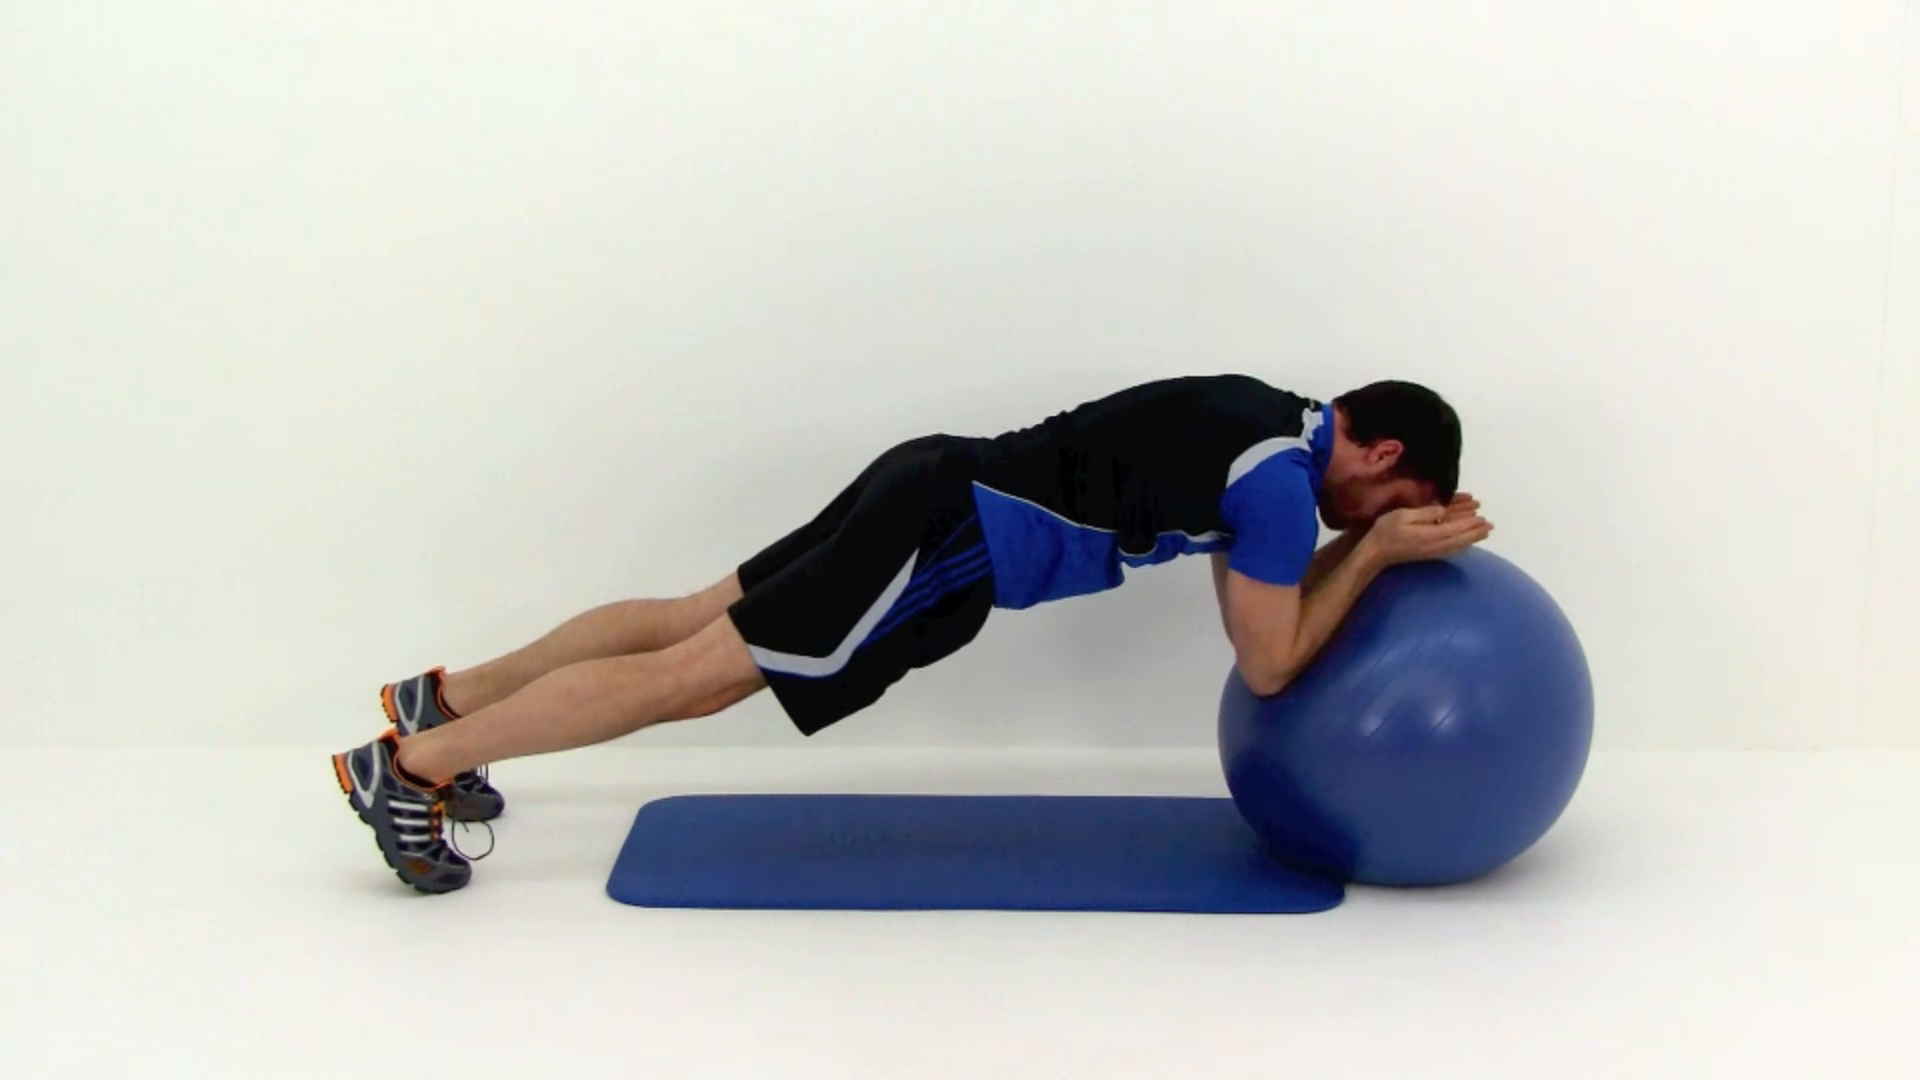yogaball: (1197, 530, 1606, 897)
